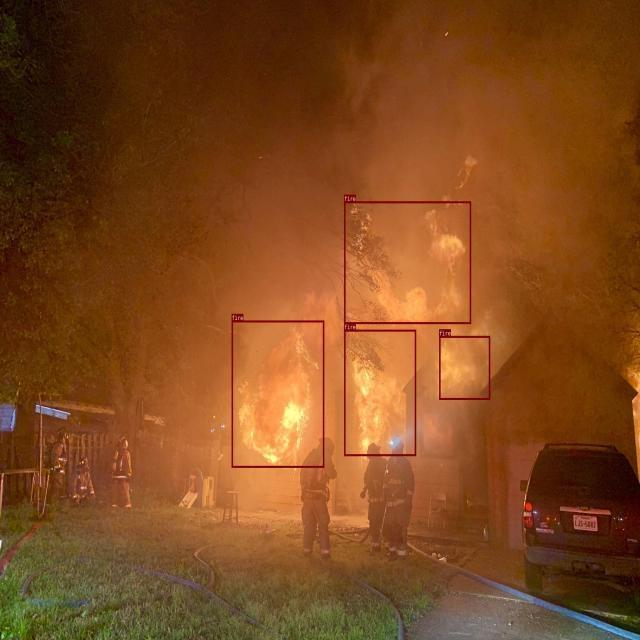fire: (344, 201, 471, 323), (231, 320, 324, 467), (344, 329, 416, 456), (439, 336, 490, 399)
